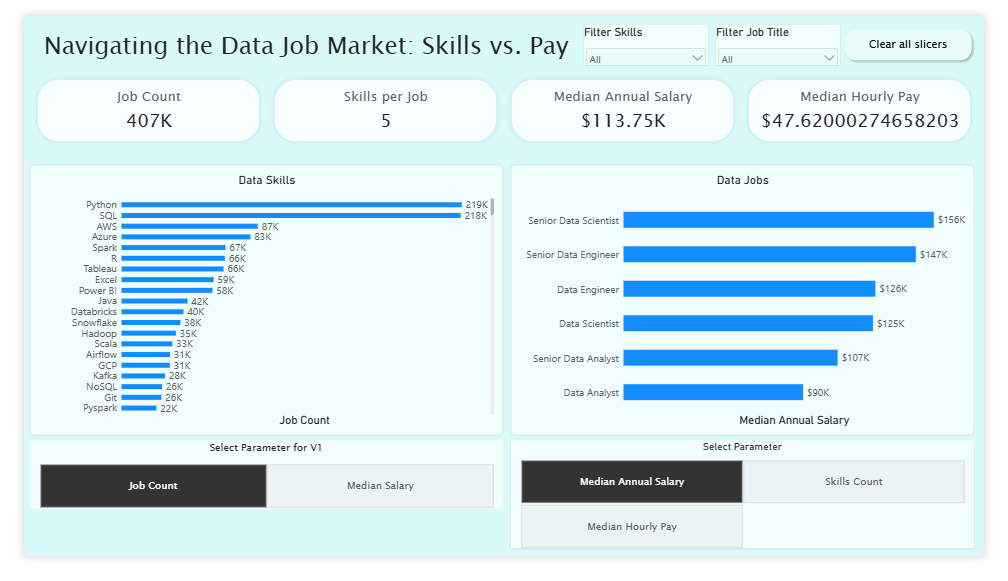

What the dashboard file says about the page in this screenshot:
{"tool":"powerbi","page":{"name":"Data Dashboard","canvas":[1920,1080],"ordinal":0},"visuals":[{"type":"textbox","box":[10,0,280,280],"z":0},{"type":"textbox","box":[10,290,280,280],"z":1},{"type":"textbox","box":[40,22,1190,94],"z":2},{"type":"cardVisual","fields":{"Data":["_Measures.Job Count","_Measures.Skills per Job","_Measures.Median Salary","_Measures.Median Hourly Pay"]},"box":[15.5,115.2,1889,146.2],"z":3},{"type":"clusteredBarChart","title":"Data Jobs","fields":{"Category":["job_postings_fact.job_title_short"],"Y":["_Measures.Skills per Job"]},"box":[974.4,299,925.5,540.4],"z":5},{"type":"clusteredBarChart","title":"Data Skills","fields":{"Category":["skills_dim.Skills"],"Y":["_Measures.Job Count"]},"box":[11.1,299,945.6,540.3],"z":6},{"type":"slicer","title":"Select Parameter","fields":{"Values":["Select Parameter.Select Parameter"]},"box":[974.4,848.2,925.7,217],"z":7},{"type":"slicer","title":"Select Parameter for V1","fields":{"Values":["Select Parameter V1.Select Parameter V1"]},"box":[11.1,848.2,945.6,137.3],"z":8},{"type":"slicer","title":"Filter Job Title","fields":{"Values":["job_postings_fact.job_title_short"]},"box":[1384,18,248,80],"z":9},{"type":"actionButton","box":[1632.1,17.7,272.4,79.7],"z":10},{"type":"slicer","title":"Filter Skills","fields":{"Values":["skills_dim.Skills"]},"box":[1120,18,248,80],"z":11}]}

Visuals, with their boxes in screenshot pixels (x1, y1, x2, y2), scaled from the page's 1920x1080 canvas onto the 1008x581 screenshot:
textbox: BBox(5, 0, 152, 151)
textbox: BBox(5, 156, 152, 307)
textbox: BBox(21, 12, 646, 62)
cardVisual - _Measures.Job Count x _Measures.Skills per Job: BBox(8, 62, 1000, 141)
"Data Jobs" clusteredBarChart: BBox(512, 161, 997, 452)
"Data Skills" clusteredBarChart: BBox(6, 161, 502, 452)
"Select Parameter" slicer: BBox(512, 456, 998, 573)
"Select Parameter for V1" slicer: BBox(6, 456, 502, 530)
"Filter Job Title" slicer: BBox(727, 10, 857, 53)
actionButton: BBox(857, 10, 1000, 52)
"Filter Skills" slicer: BBox(588, 10, 718, 53)
